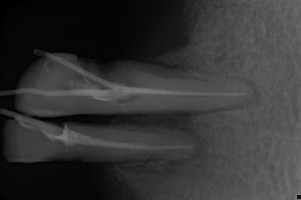Dental Caries: (108, 75, 262, 180)
